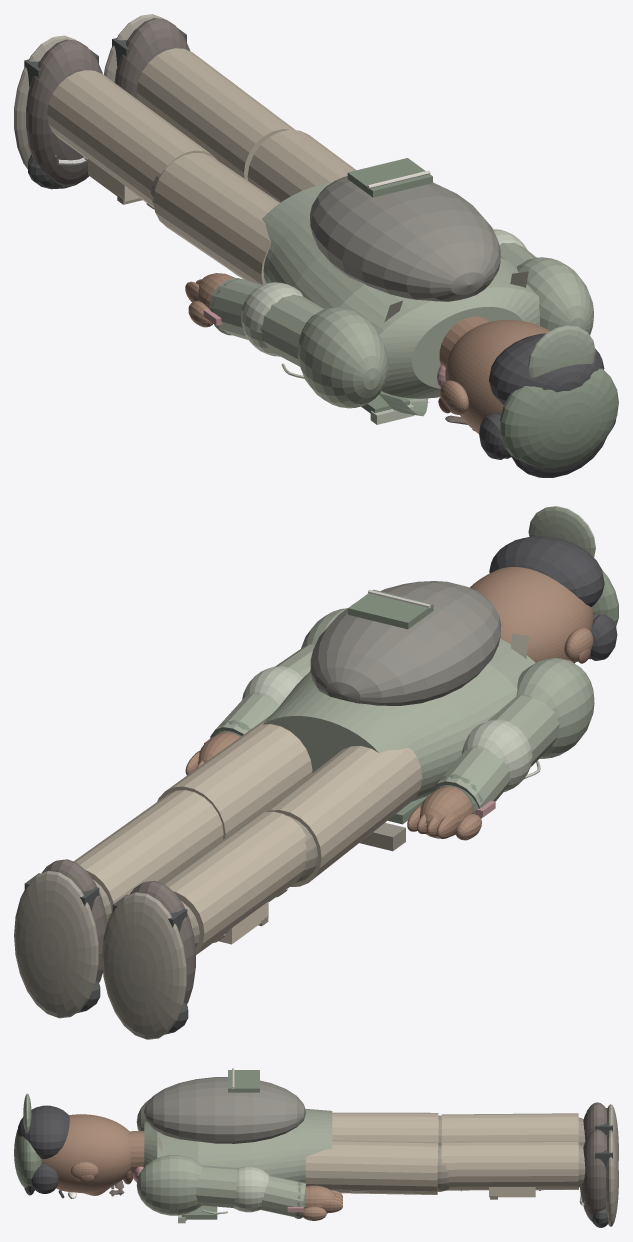
The model's file is looter_27.glb.
3 renders of one model, top to bottom at view 1: azimuth 30°, elevation 25°; view 2: azimuth 150°, elevation 25°; view 3: azimuth 270°, elevation 25°, orthographic. The views are drawn at different scales.
Visible parts, largest first — view 1: looter_27_pants, looter_27_jacket, looter_27_bag, looter_27_jacketDark, looter_27_shoe, looter_27_skin, looter_27_hair, looter_27_jacketHi, looter_27_sole, looter_27_shoeDark, looter_27_pantsHi; view 2: looter_27_pants, looter_27_jacket, looter_27_sole, looter_27_bag, looter_27_skin, looter_27_hair, looter_27_jacketHi, looter_27_jacketDark, looter_27_shoe, looter_27_pantsDark, looter_27_shoeDark, looter_27_pantsHi; view 3: looter_27_pants, looter_27_jacket, looter_27_bag, looter_27_skin, looter_27_hair, looter_27_shoe, looter_27_jacketDark, looter_27_jacketHi, looter_27_sole, looter_27_pantsDark, looter_27_pantsHi, looter_27_shoeDark.
Part boxes in pixels (x1,y1,x2,y2): looter_27_pants: (47, 48, 356, 284); looter_27_jacket: (209, 182, 595, 408); looter_27_bag: (310, 176, 500, 301); looter_27_jacketDark: (211, 158, 618, 468); looter_27_shoe: (26, 18, 190, 186); looter_27_skin: (185, 273, 550, 433); looter_27_hair: (479, 333, 616, 477); looter_27_jacketHi: (241, 229, 527, 424); looter_27_sole: (14, 14, 164, 169); looter_27_shoeDark: (24, 28, 186, 189); looter_27_pantsHi: (88, 159, 237, 275); looter_27_pants: (74, 715, 422, 954); looter_27_jacket: (210, 506, 595, 818); looter_27_sole: (14, 871, 186, 1039); looter_27_bag: (310, 581, 501, 705); looter_27_skin: (185, 567, 593, 840); looter_27_hair: (489, 536, 617, 660); looter_27_jacketHi: (242, 666, 540, 791); looter_27_jacketDark: (214, 570, 618, 824); looter_27_shoe: (42, 859, 195, 1004); looter_27_pantsDark: (93, 815, 405, 947); looter_27_shoeDark: (24, 873, 188, 1034); looter_27_pantsHi: (218, 826, 379, 944); looter_27_pants: (305, 1112, 578, 1194); looter_27_jacket: (23, 1093, 332, 1216); looter_27_bag: (144, 1077, 305, 1143); looter_27_skin: (42, 1114, 342, 1220); looter_27_hair: (17, 1105, 74, 1198); looter_27_shoe: (580, 1102, 606, 1221); looter_27_jacketDark: (14, 1070, 305, 1219); looter_27_jacketHi: (178, 1166, 269, 1223); looter_27_sole: (606, 1104, 618, 1226); looter_27_pantsDark: (437, 1115, 585, 1199); looter_27_pantsHi: (347, 1187, 535, 1197); looter_27_shoeDark: (592, 1108, 612, 1227).
Size of the model in its own units: 0.6365 by 0.4551 by 1.86.
